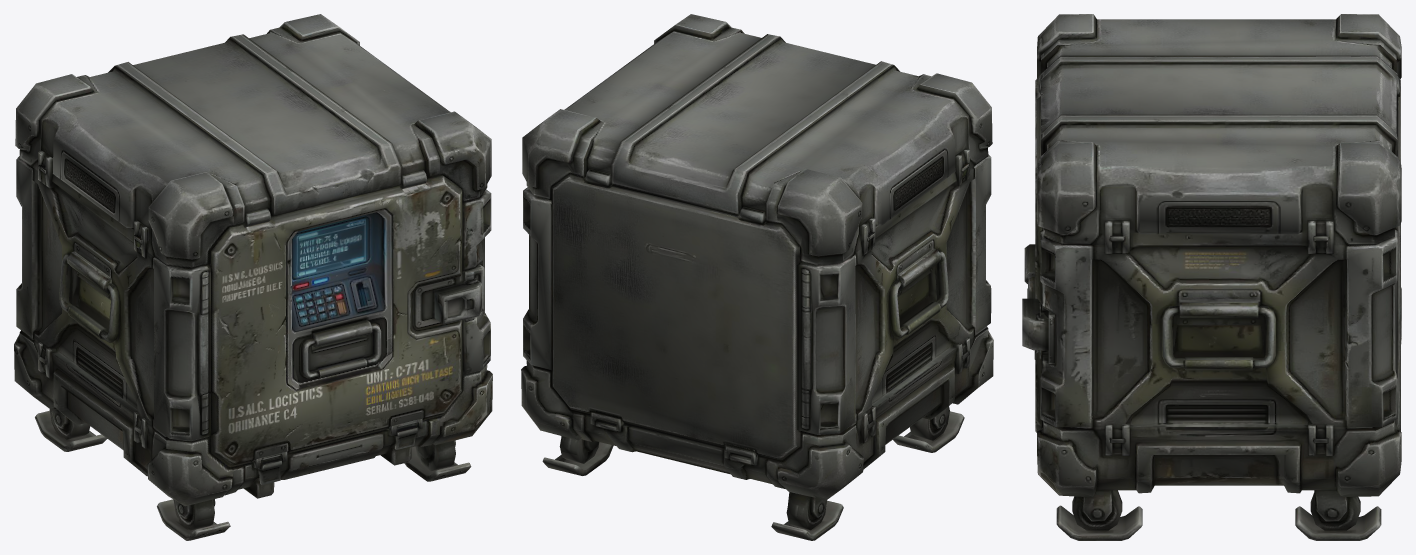
3 renders of one model, left to right at view 1: azimuth 30°, elevation 25°; view 2: azimuth 150°, elevation 25°; view 3: azimuth 270°, elevation 25°, orthographic. The views are drawn at different scales.
Visible parts, largest first — view 1: tripo_node_3c61f848-665f-4ce8-8f4b-2cb72faedb40; view 2: tripo_node_3c61f848-665f-4ce8-8f4b-2cb72faedb40; view 3: tripo_node_3c61f848-665f-4ce8-8f4b-2cb72faedb40.
Part boxes in pixels (x1,y1,x2,y2): tripo_node_3c61f848-665f-4ce8-8f4b-2cb72faedb40: [14, 14, 492, 540]; tripo_node_3c61f848-665f-4ce8-8f4b-2cb72faedb40: [521, 14, 993, 540]; tripo_node_3c61f848-665f-4ce8-8f4b-2cb72faedb40: [1022, 14, 1401, 540].
Bounding box in the file's own units: 0.998 × 0.998 × 0.9043.
Materials: 1 (1 with a texture image).
